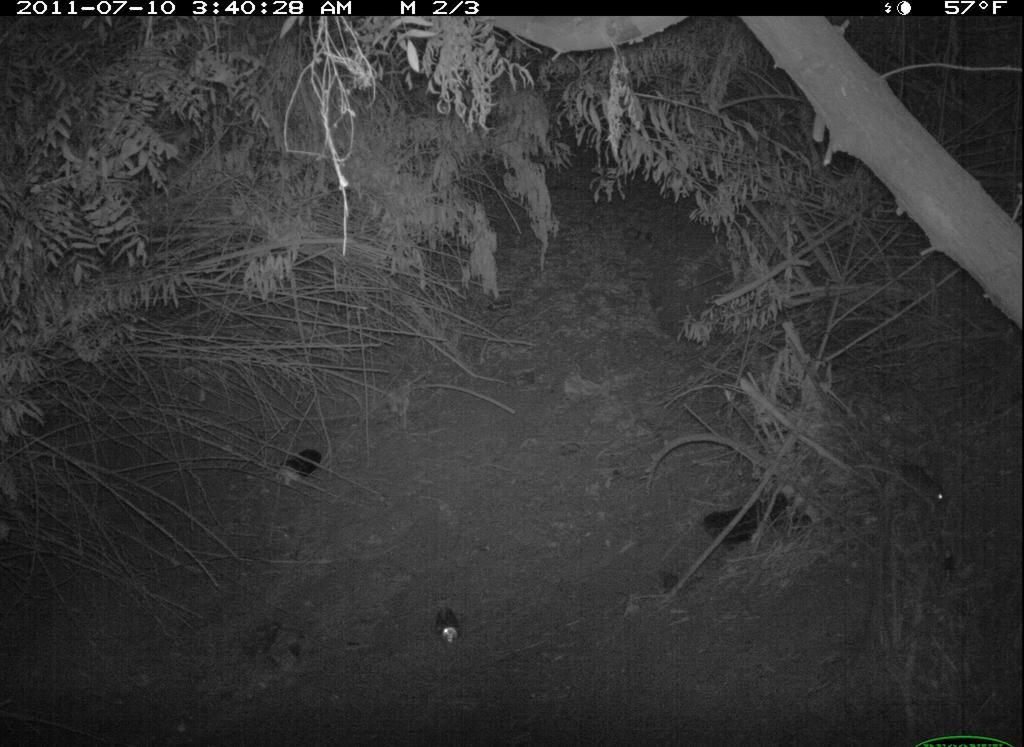rodent: (888, 454, 964, 536)
